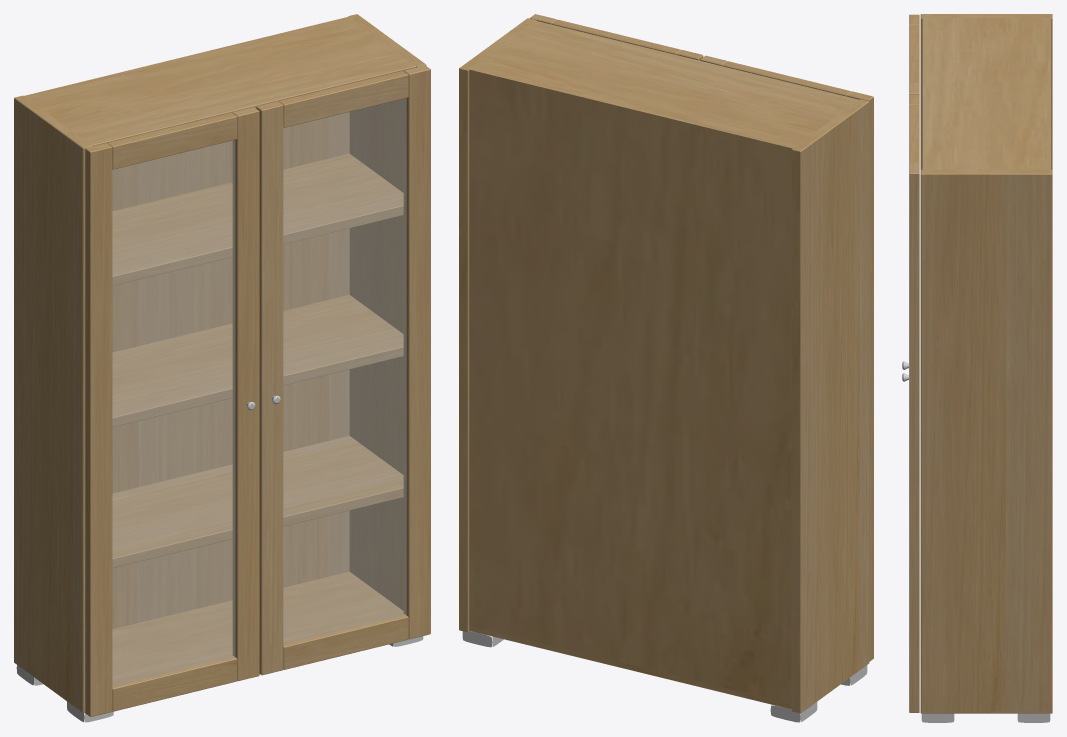
File: b0-bookcase.glb
The picture shows the model from 3 angles, left to right: view 1: azimuth 30°, elevation 25°; view 2: azimuth 150°, elevation 25°; view 3: azimuth 270°, elevation 25°; orthographic projection. The views are drawn at different scales.
Visible parts, largest first — view 1: Cube.006_Cube.008, Plane, Cube.011_Cube.016, Cube.014_Cube.003, Cube.001; view 2: Cube.014_Cube.003, Cube.006_Cube.008, Cube.011_Cube.016, Cube.001; view 3: Cube.006_Cube.008, Cube.011_Cube.016, Cube.001, Cube.014_Cube.003.
Part boxes in pixels (x1,y1,x2,y2): Cube.006_Cube.008: [14, 14, 426, 712]; Plane: [112, 98, 406, 686]; Cube.011_Cube.016: [85, 65, 430, 716]; Cube.014_Cube.003: [22, 16, 349, 628]; Cube.001: [16, 636, 423, 722]; Cube.014_Cube.003: [469, 69, 796, 703]; Cube.006_Cube.008: [459, 18, 869, 713]; Cube.011_Cube.016: [530, 14, 873, 661]; Cube.001: [462, 631, 867, 722]; Cube.006_Cube.008: [920, 14, 1052, 713]; Cube.011_Cube.016: [909, 14, 919, 712]; Cube.001: [921, 713, 1050, 722]; Cube.014_Cube.003: [1049, 18, 1050, 169].
Size of the model in its own units: 0.9189 by 1.47 by 0.3649.
Materials: 3 (1 with a texture image).
